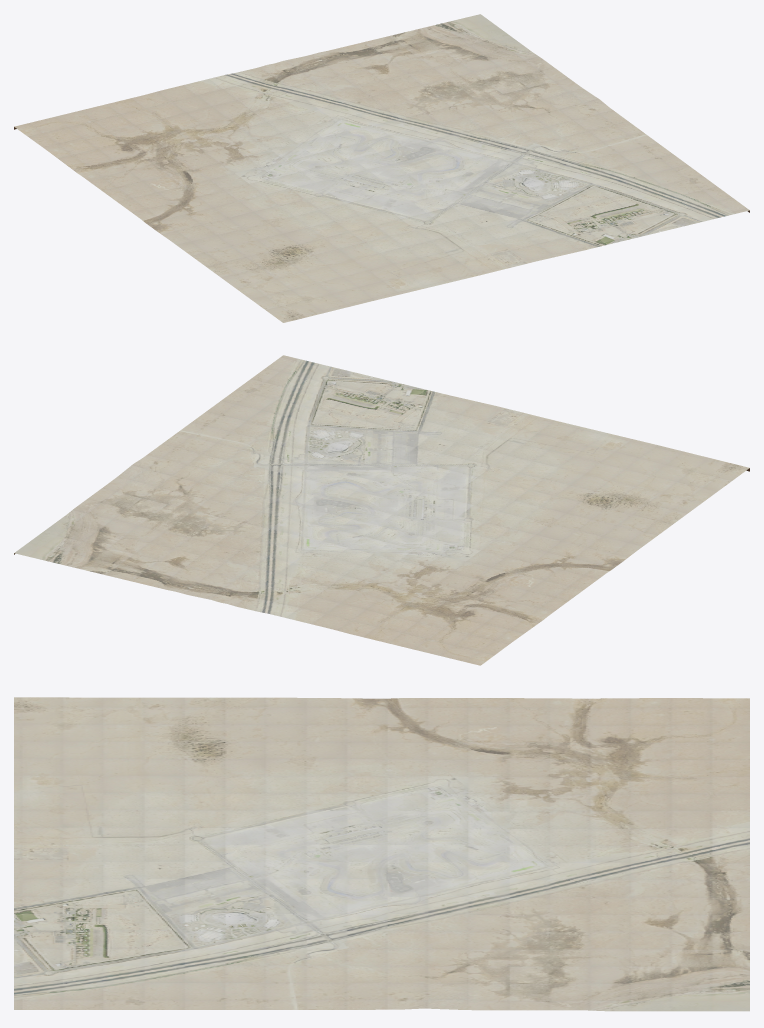
File: 23_qatar_gp.glb
3 renders of one model, top to bottom at view 1: azimuth 30°, elevation 25°; view 2: azimuth 150°, elevation 25°; view 3: azimuth 270°, elevation 25°, orthographic. The views are drawn at different scales.
Parts seen in each view (by area): view 1: tinMesh; view 2: tinMesh; view 3: tinMesh.
Boxes of the visible parts, bbox=[...] form: tinMesh: bbox=[14, 14, 749, 322]; tinMesh: bbox=[14, 355, 749, 665]; tinMesh: bbox=[14, 697, 749, 1011].
Size of the model in its own units: 5546 by 45.5 by 5546.
2 materials, 2 textured.
